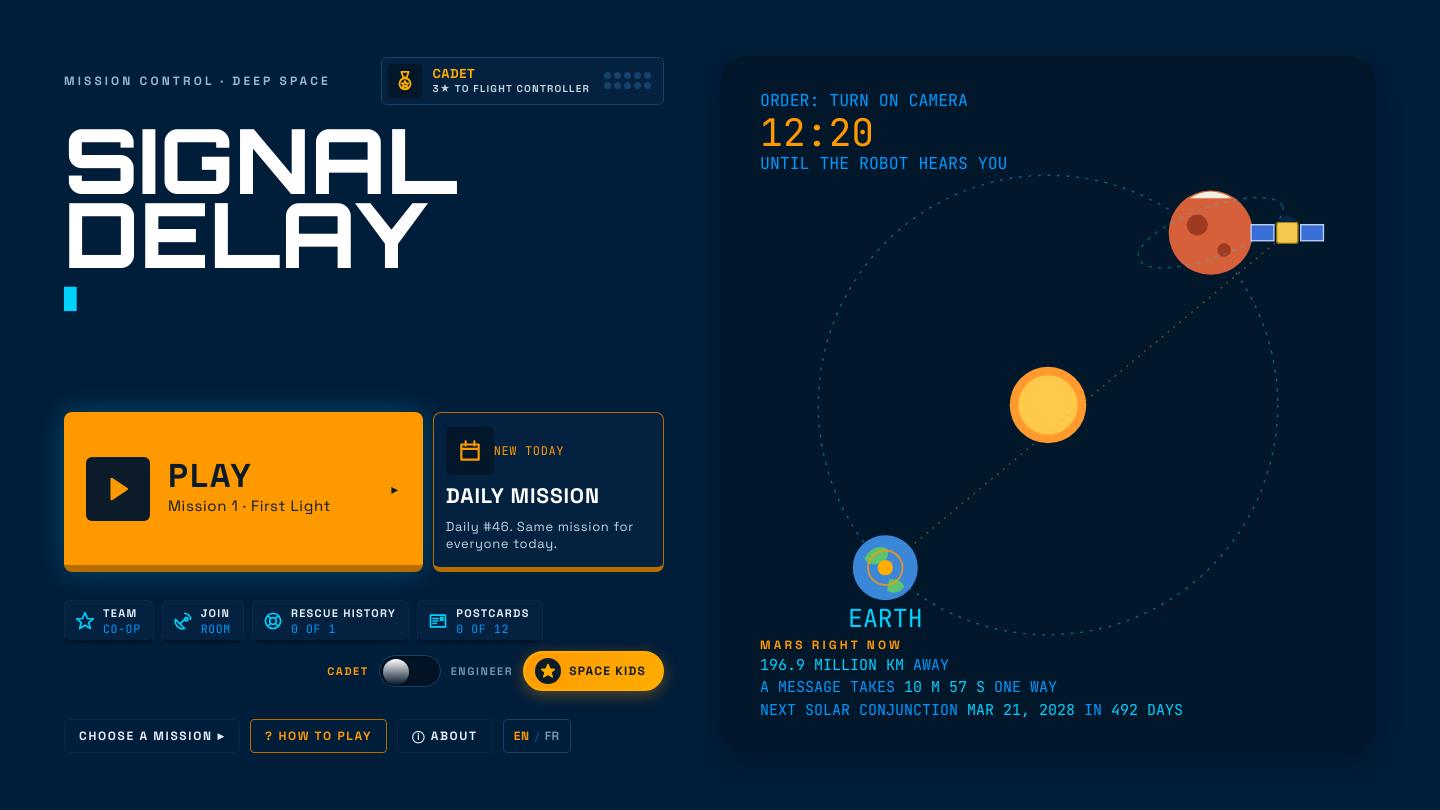
Test case: Team Setup (T1) › ONLINE ROOM is for a team: NEXT then opens a room; SOLO turns the key off (spec: Online room)
The image size is (1440, 810).
Click the button "TEAM CO-OP" at {"x": 109, "y": 621}, box [64,600,154,643]
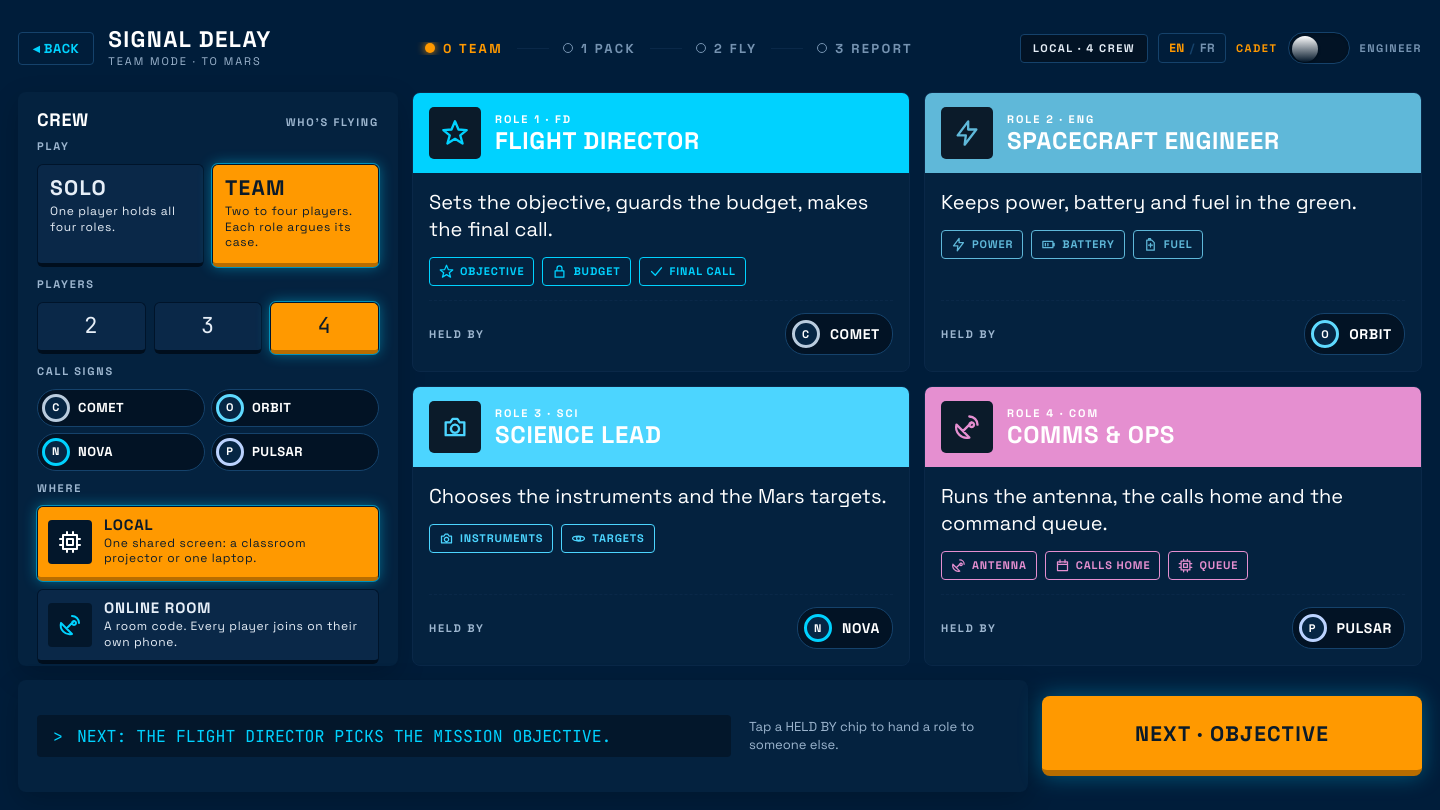
Click the button that starts with "ONLINE ROOM" at {"x": 208, "y": 627}, box [37,589,379,664]
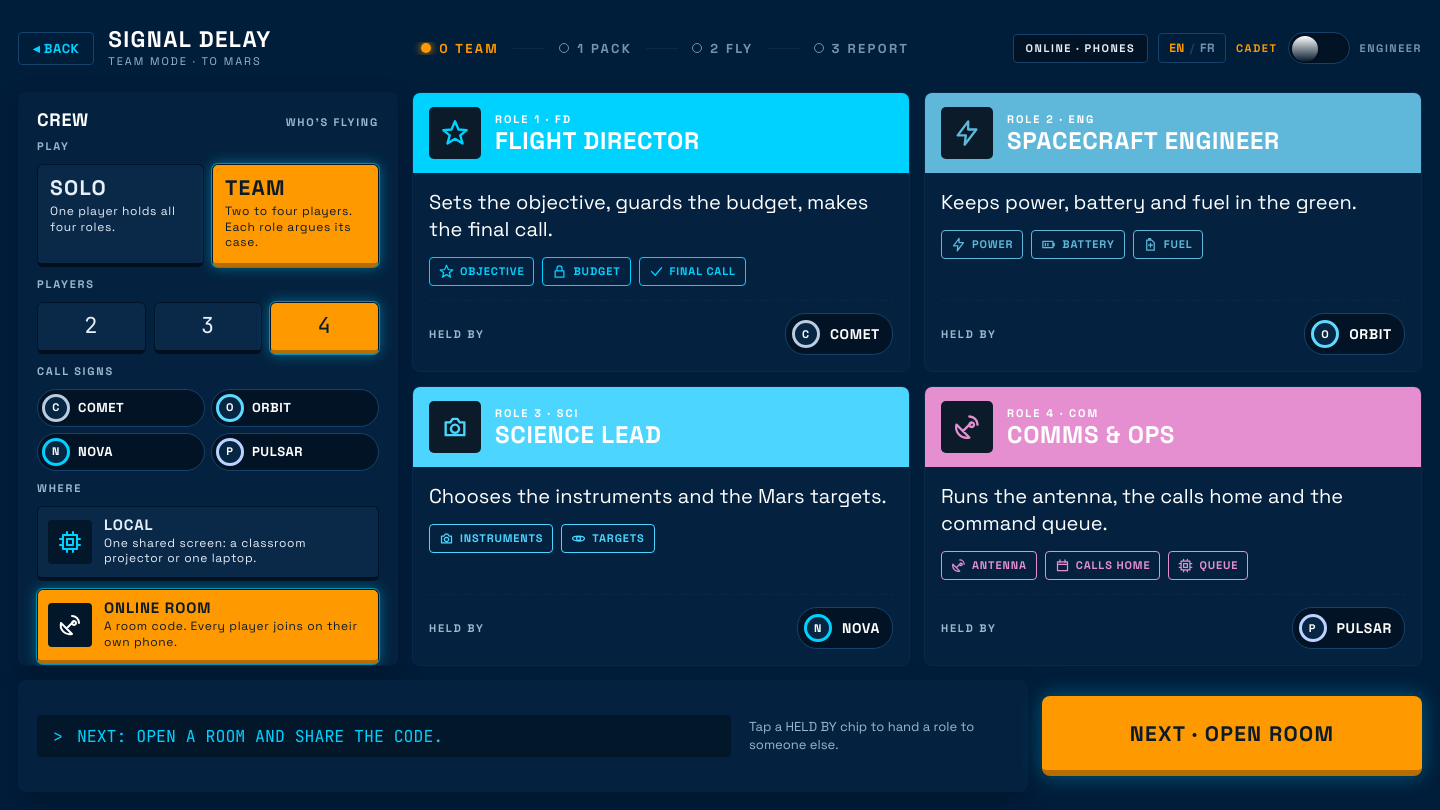
Now the text "NEXT: OPEN A ROOM AND SHARE THE CODE." is shown, box [77,727,443,745]
Now the button "NEXT · OPEN ROOM" is shown, box [1042,696,1422,776]
Click the button "SOLO One player holds all four roles." at {"x": 120, "y": 215}, box [37,164,204,267]
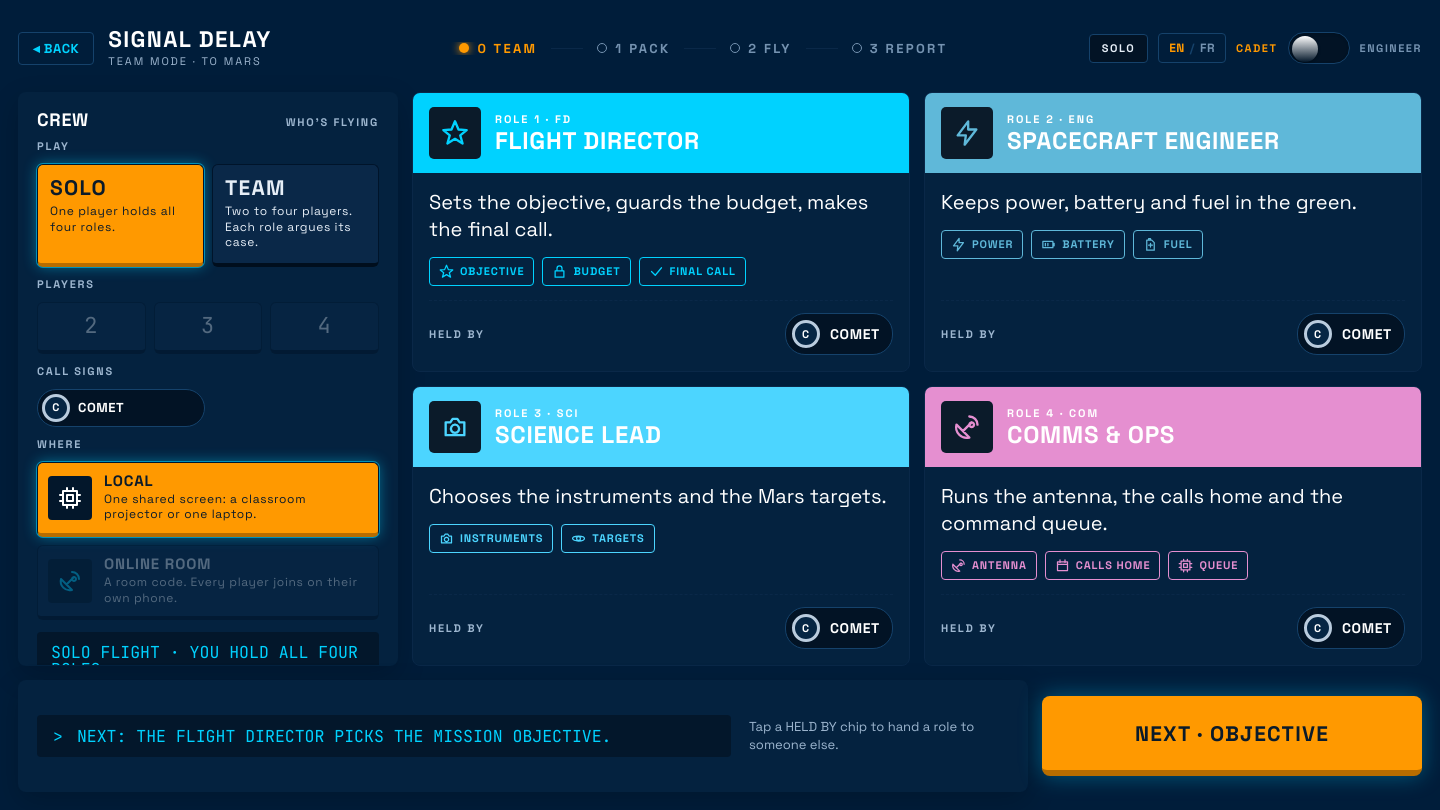
Now the button "NEXT · OBJECTIVE" is shown, box [1042,696,1422,776]
